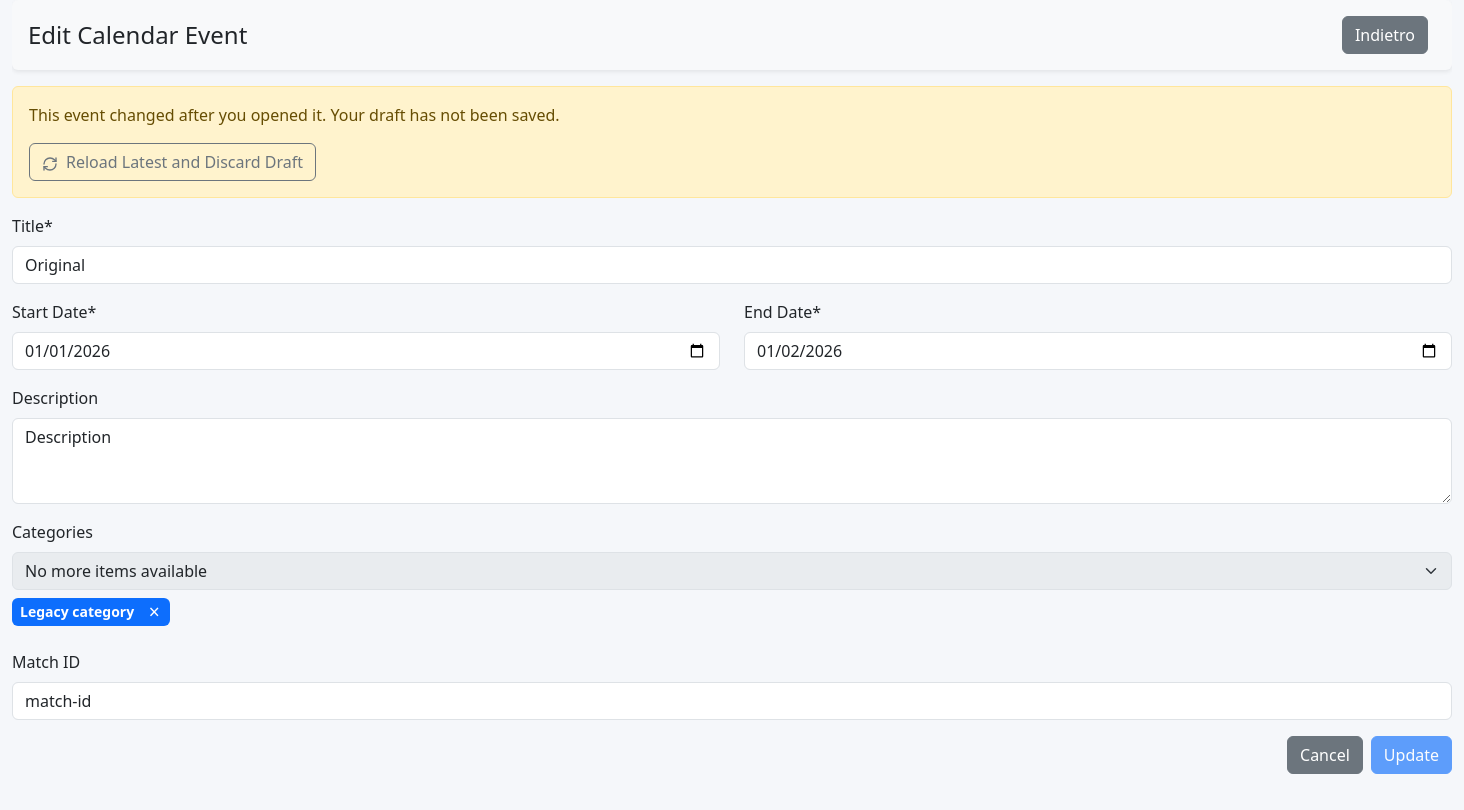
Test: Calendar editor hardening › preserves the draft and conflict lock when reload fails
This screenshot has width=1464, height=810.
Replace the text in the field labelled "Title*" with "Draft": (732, 265) [12,246,1452,284]
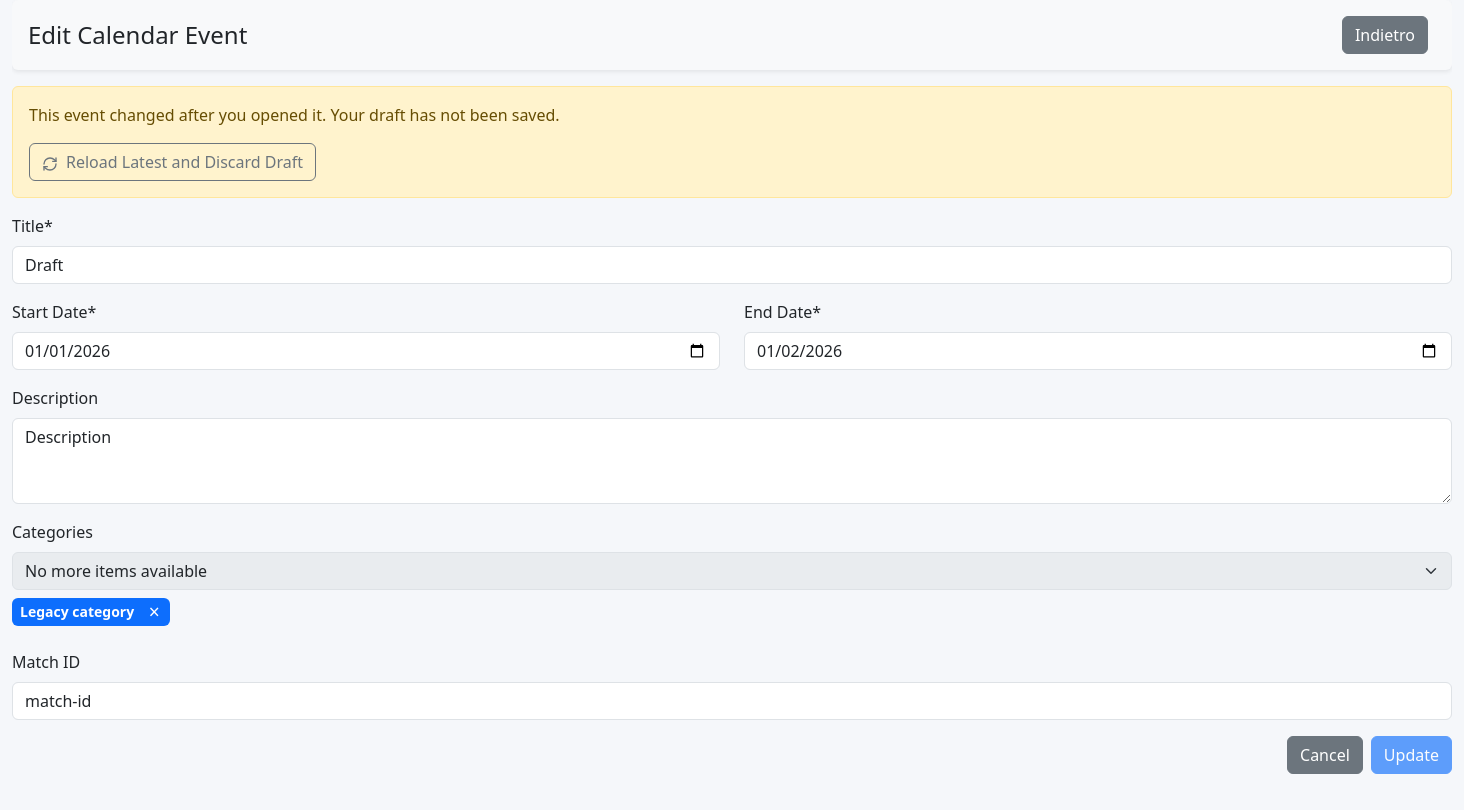
Click the button "Reload Latest and Discard Draft": (172, 162) [29,143,316,181]
(page scrolled)
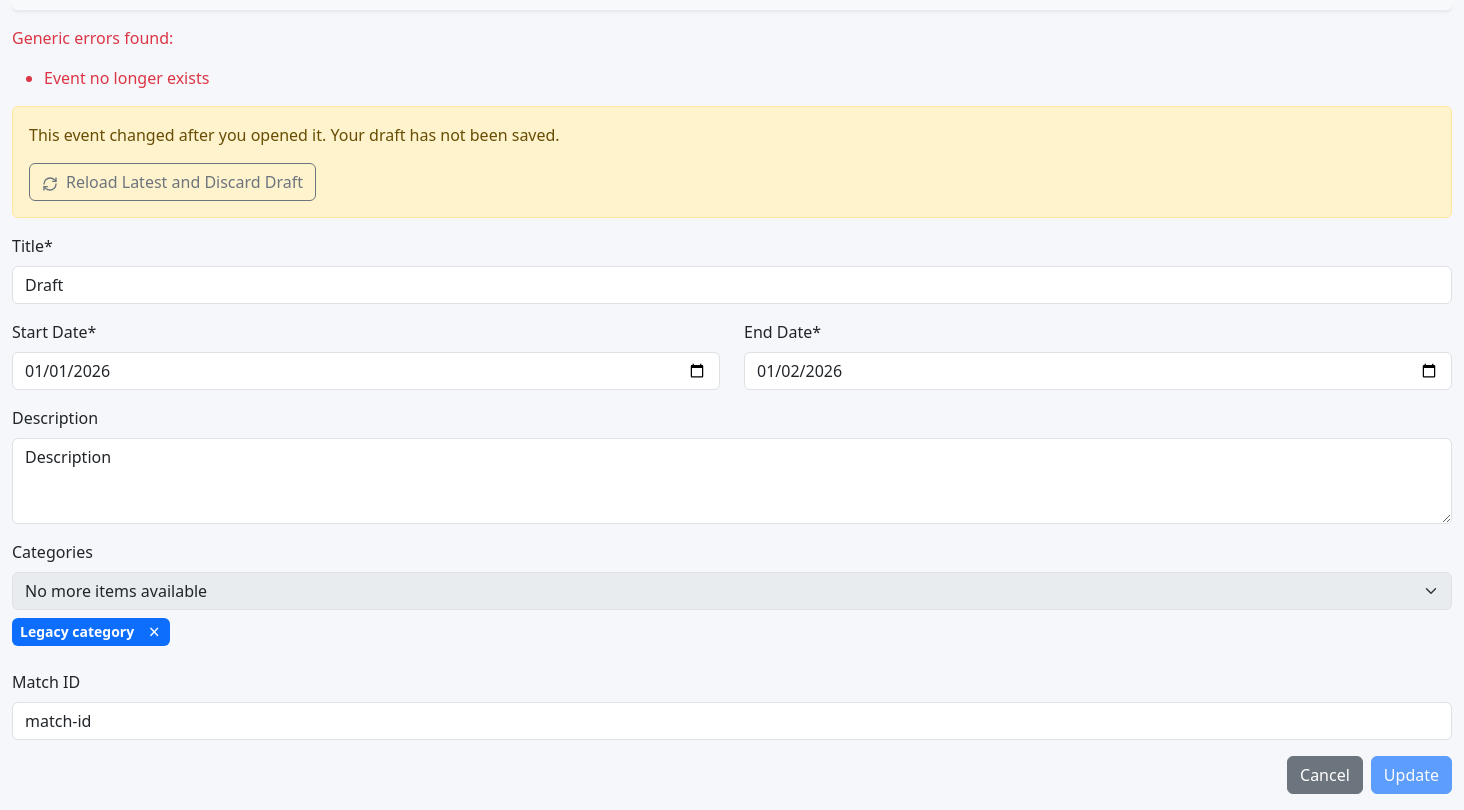
Expected: the button "Update" is disabled, [1371,756,1452,794]
Now the list item "Event no longer exists" is shown, box [44,67,209,89]
